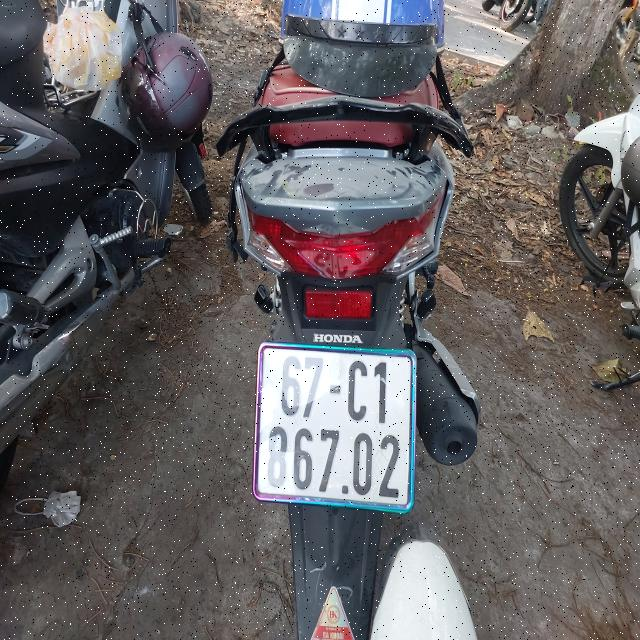0: (352, 430, 372, 496)
1: (373, 361, 388, 425)
2: (378, 434, 400, 498)
6: (280, 355, 301, 421), (292, 425, 313, 489)
7: (319, 428, 340, 494), (304, 358, 323, 418)
8: (268, 427, 288, 488)
C: (346, 358, 368, 420)
